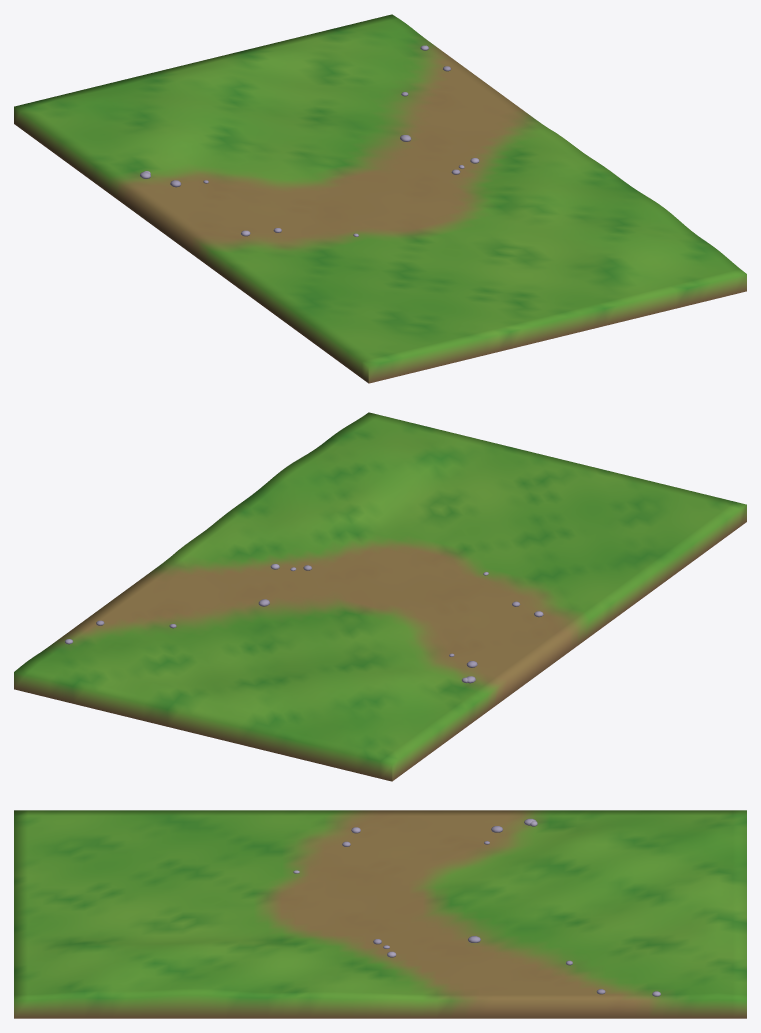
File: ground_tile_a.glb
3 renders of one model, top to bottom at view 1: azimuth 30°, elevation 25°; view 2: azimuth 150°, elevation 25°; view 3: azimuth 270°, elevation 25°, orthographic. The views are drawn at different scales.
Parts seen in each view (by area): view 1: Ground_Tile_A_Surface; view 2: Ground_Tile_A_Surface; view 3: Ground_Tile_A_Surface, Ground_Tile_A_Pebbles.
Boxes of the visible parts, bbox=[...] form: Ground_Tile_A_Surface: bbox=[14, 14, 746, 383]; Ground_Tile_A_Surface: bbox=[14, 412, 746, 781]; Ground_Tile_A_Surface: bbox=[14, 810, 746, 1018]; Ground_Tile_A_Pebbles: bbox=[293, 818, 660, 996].
Bounding box in the file's own units: 8 × 0.5116 × 13.
